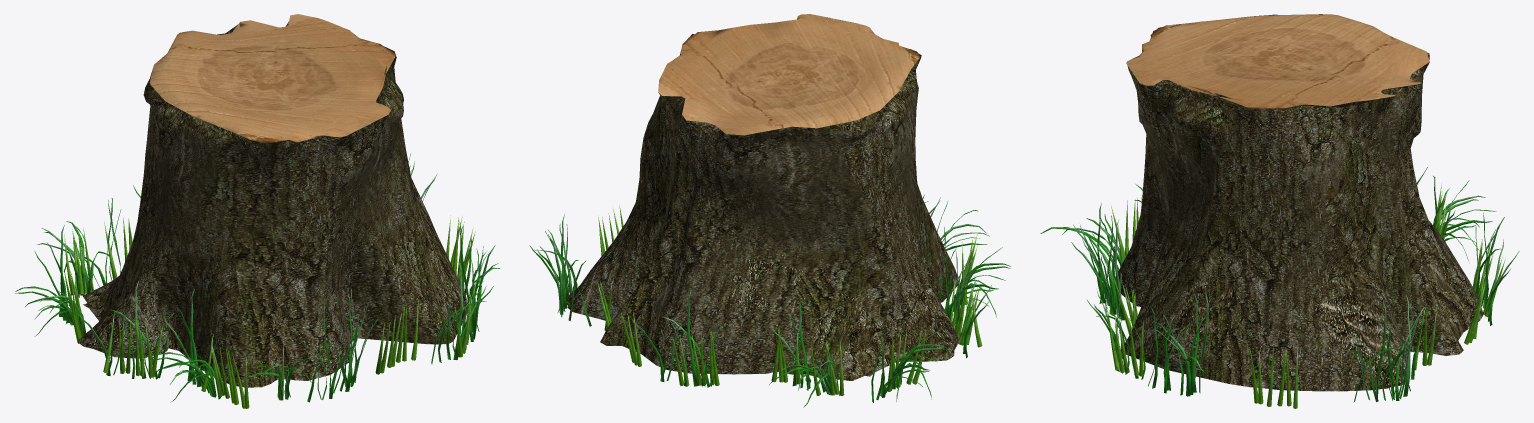
File: Stump.FBX
3 renders of one model, left to right at view 1: azimuth 30°, elevation 25°; view 2: azimuth 150°, elevation 25°; view 3: azimuth 270°, elevation 25°, orthographic. The views are drawn at different scales.
Visible parts, largest first — view 1: Stump, Cap, Grass; view 2: Stump, Cap, Grass; view 3: Stump, Cap, Grass.
Part boxes in pixels (box(x1,y1,x2,y2)): Stump: box(77, 21, 467, 387); Cap: box(150, 14, 395, 143); Grass: box(15, 154, 499, 408); Stump: box(566, 17, 959, 380); Cap: box(658, 14, 920, 135); Grass: box(529, 195, 1010, 407); Stump: box(1115, 14, 1483, 391); Cap: box(1126, 14, 1429, 108); Grass: box(1040, 167, 1519, 408).
Bounding box in the file's own units: 30.75 × 18.53 × 30.14.
Materials: 4 (4 with a texture image).
